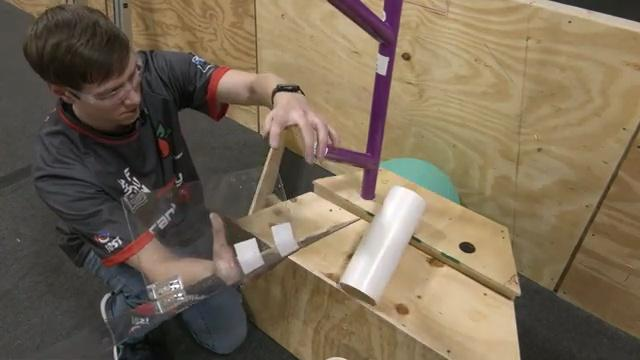CORAL: (337, 183, 426, 305)
